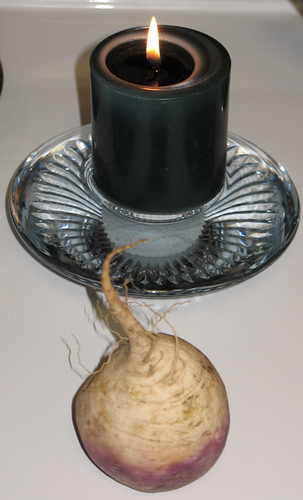turnip: (63, 235, 231, 495)
